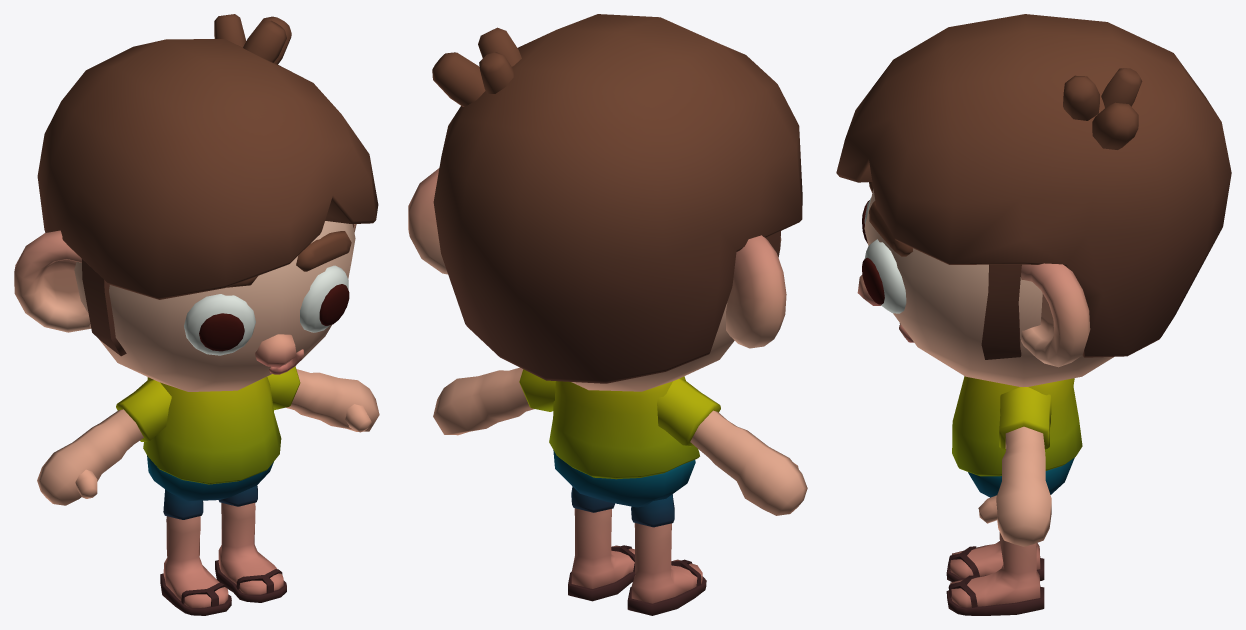
The model's file is puppet_kid.gltf.
3 renders of one model, left to right at view 1: azimuth 30°, elevation 25°; view 2: azimuth 150°, elevation 25°; view 3: azimuth 270°, elevation 25°, orthographic. The views are drawn at different scales.
Parts seen in each view (by area): view 1: hair, head, body, shirt, eyes, shorts, slippers, eyebrows; view 2: hair, body, shirt, head, shorts, slippers; view 3: hair, head, body, shirt, eyes, slippers, shorts, eyebrows.
Boxes of the visible parts, left/top/right/bottom form: hair: left=37, top=14, right=378, bottom=356; head: left=14, top=221, right=356, bottom=391; body: left=37, top=369, right=379, bottom=607; shirt: left=116, top=366, right=300, bottom=484; eyes: left=184, top=265, right=349, bottom=355; shorts: left=147, top=455, right=273, bottom=519; slippers: left=160, top=560, right=286, bottom=615; eyebrows: left=227, top=231, right=351, bottom=287; hair: left=432, top=14, right=802, bottom=383; body: left=433, top=367, right=807, bottom=603; shirt: left=519, top=369, right=720, bottom=479; head: left=408, top=168, right=786, bottom=391; shorts: left=553, top=450, right=695, bottom=527; slippers: left=568, top=545, right=706, bottom=615; hair: left=836, top=14, right=1231, bottom=359; head: left=857, top=189, right=1114, bottom=387; body: left=950, top=426, right=1051, bottom=607; shirt: left=952, top=376, right=1082, bottom=476; eyes: left=862, top=198, right=906, bottom=313; slippers: left=946, top=546, right=1044, bottom=615; shorts: left=968, top=457, right=1074, bottom=497; eyebrows: left=869, top=182, right=912, bottom=256.
Size of the model in its own units: 1.33 by 1.93 by 1.24.
Materials: 10 (10 with a texture image).
